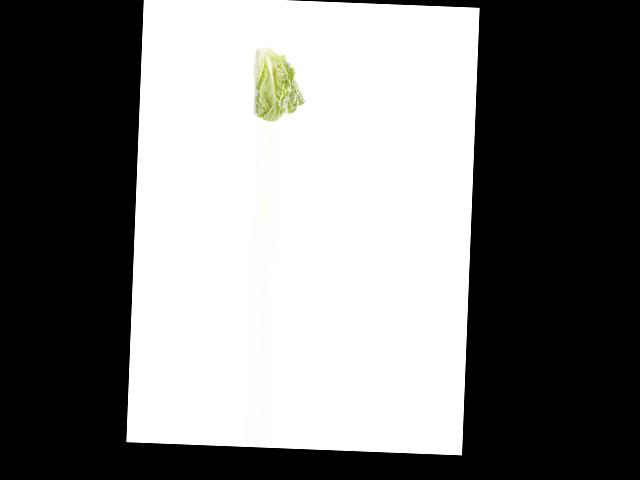lettuce: (243, 43, 307, 122)
